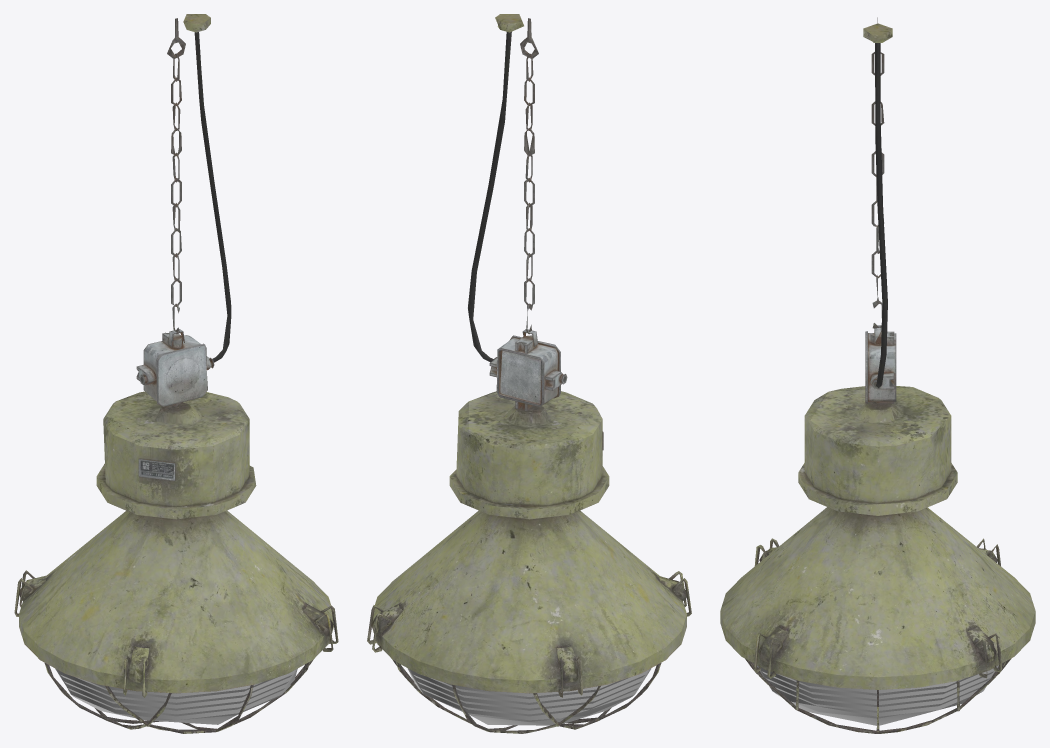
The model's file is hanging_industrial_lamp.glb.
The picture shows the model from 3 angles, left to right: view 1: azimuth 30°, elevation 25°; view 2: azimuth 150°, elevation 25°; view 3: azimuth 270°, elevation 25°; orthographic projection.
Size of the model in its own units: 0.5496 by 1.35 by 0.5496.
Materials: 2 (1 with a texture image).
